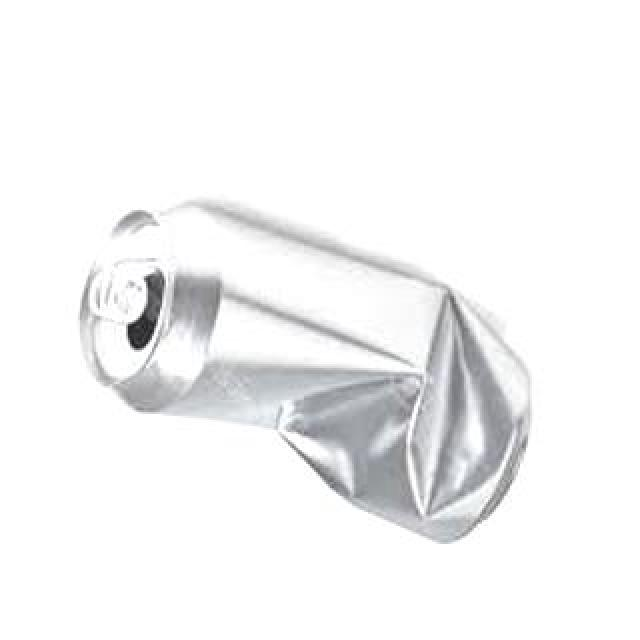Can: (68, 185, 564, 547)
